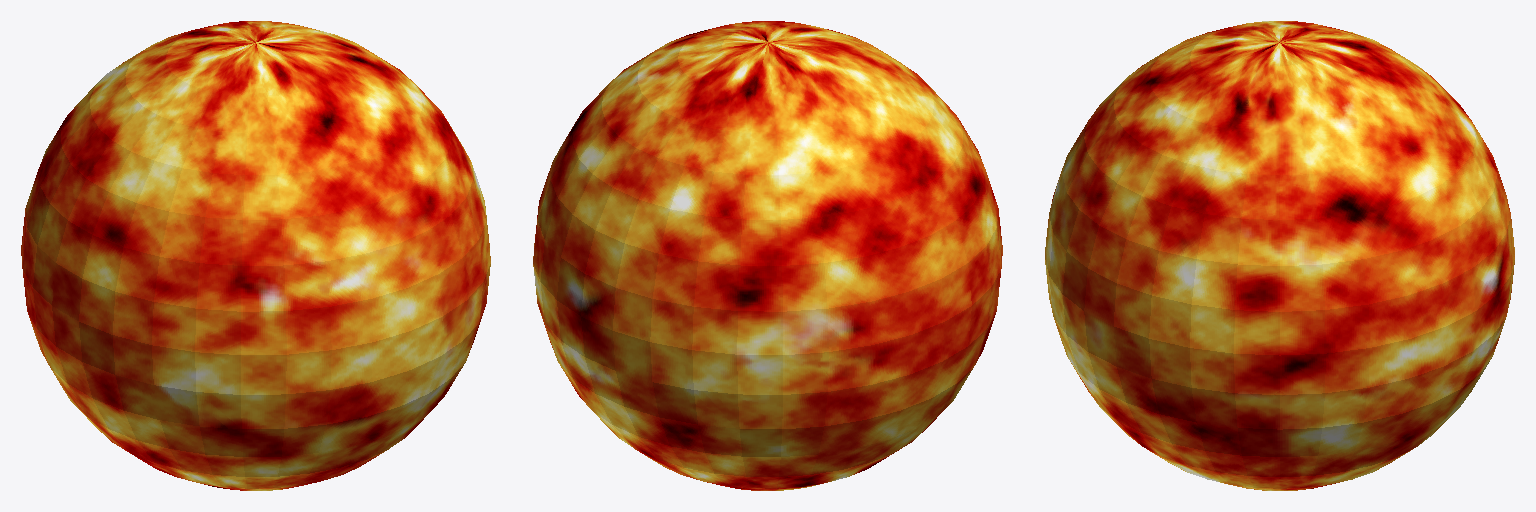
3 views of the same model, side by side, from view 1: azimuth 30°, elevation 25°; view 2: azimuth 150°, elevation 25°; view 3: azimuth 270°, elevation 25° (orthographic).
Parts seen in each view (by area): view 1: Sphere; view 2: Sphere; view 3: Sphere.
Boxes of the visible parts, box(x1,y1,x2,y2) form: Sphere: box(21, 21, 490, 490); Sphere: box(533, 21, 1002, 490); Sphere: box(1045, 21, 1514, 490).
Size of the model in its own units: 1.6 by 1.6 by 1.6.
1 materials, 1 textured.